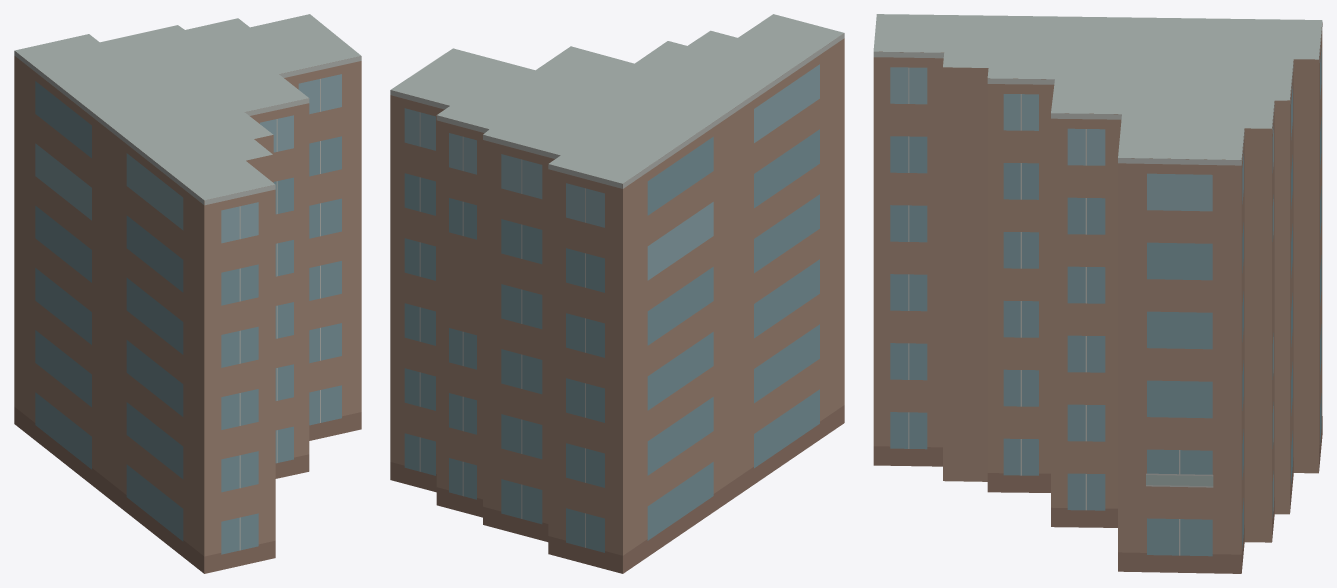
File: survey-upis-32736566.glb
3 views of the same model, side by side, from view 1: azimuth 30°, elevation 25°; view 2: azimuth 150°, elevation 25°; view 3: azimuth 270°, elevation 25° (orthographic). The views are drawn at different scales.
Visible parts, largest first — view 1: survey-upis-32736566.tmp; view 2: survey-upis-32736566.tmp; view 3: survey-upis-32736566.tmp.
Part boxes in pixels (x1=…): survey-upis-32736566.tmp: x1=14, y1=14, x2=361, y2=573; survey-upis-32736566.tmp: x1=390, y1=14, x2=844, y2=573; survey-upis-32736566.tmp: x1=873, y1=14, x2=1322, y2=573.
Bounding box in the file's own units: 13.86 × 18.3 × 18.01.
